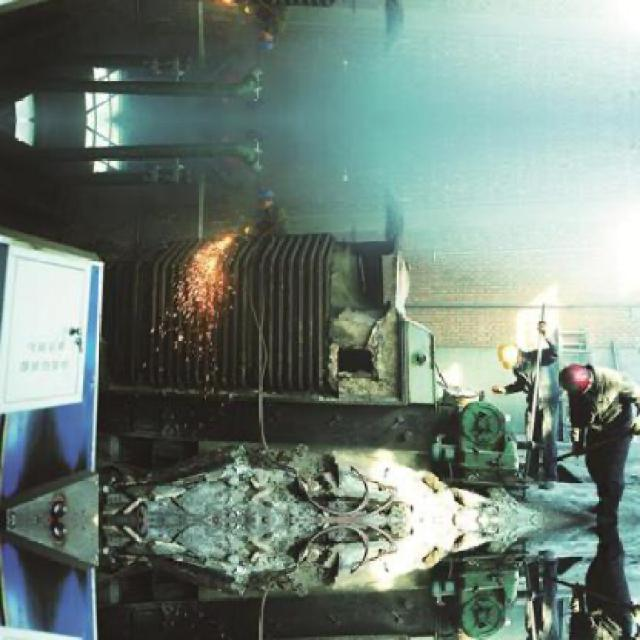helmet: (558, 361, 596, 394), (492, 340, 528, 371), (259, 188, 283, 210), (259, 28, 283, 50)
